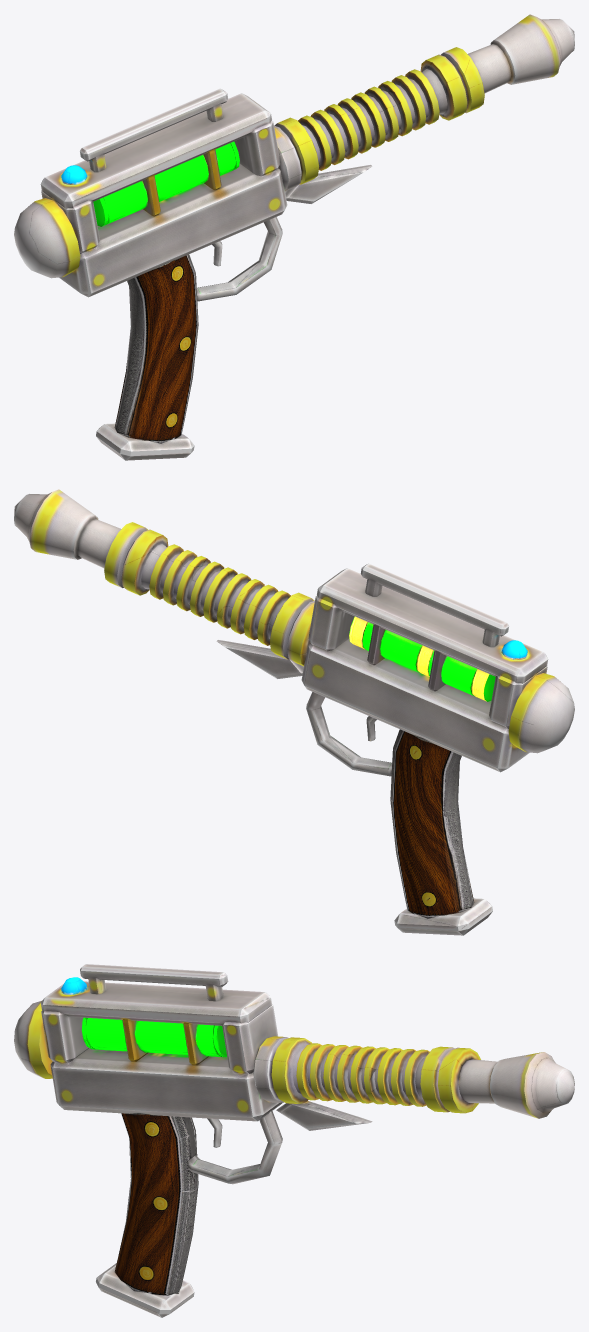
Rendered from w_blaster_t2.glb.
3 views of the same model, one above another, from view 1: azimuth 30°, elevation 25°; view 2: azimuth 150°, elevation 25°; view 3: azimuth 330°, elevation 25° (orthographic).
Parts seen in each view (by area): view 1: w_blaster; view 2: w_blaster; view 3: w_blaster.
Part boxes in pixels (bbox=[...]): w_blaster: bbox=[14, 14, 574, 460]; w_blaster: bbox=[14, 489, 574, 935]; w_blaster: bbox=[14, 964, 574, 1317].
Size of the model in its own units: 25.08 by 15.03 by 3.12.
1 material, 1 textured.
